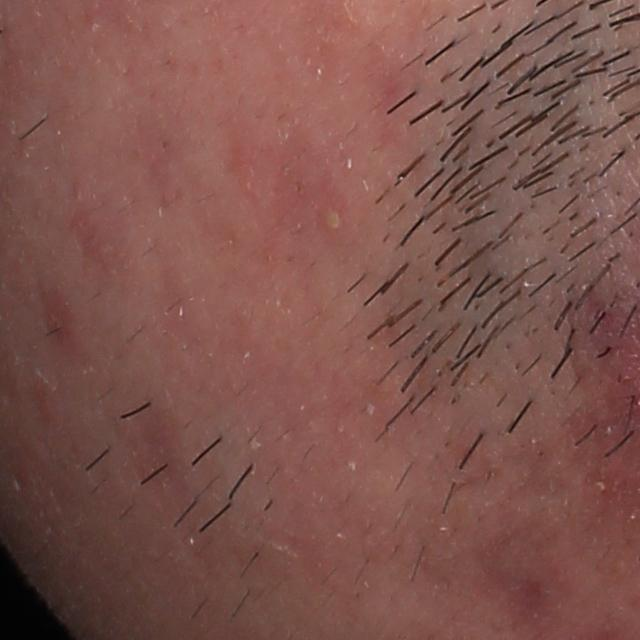pustule: (320, 202, 351, 237)
